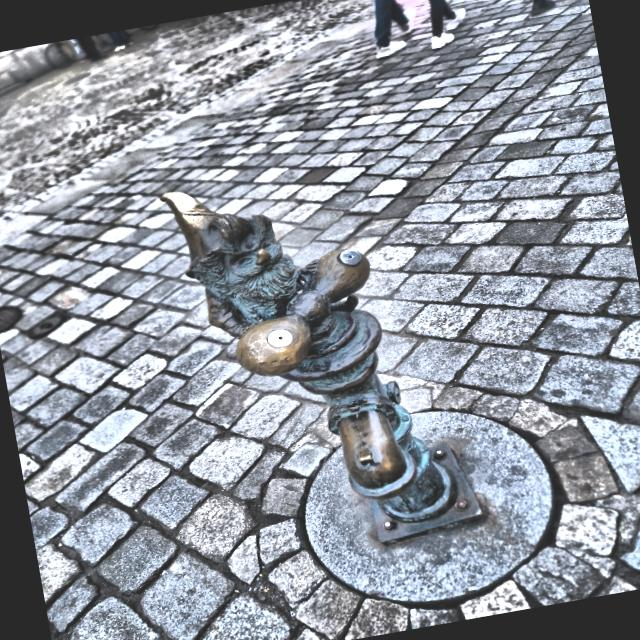Orzezwiacz: (161, 192, 480, 545)
